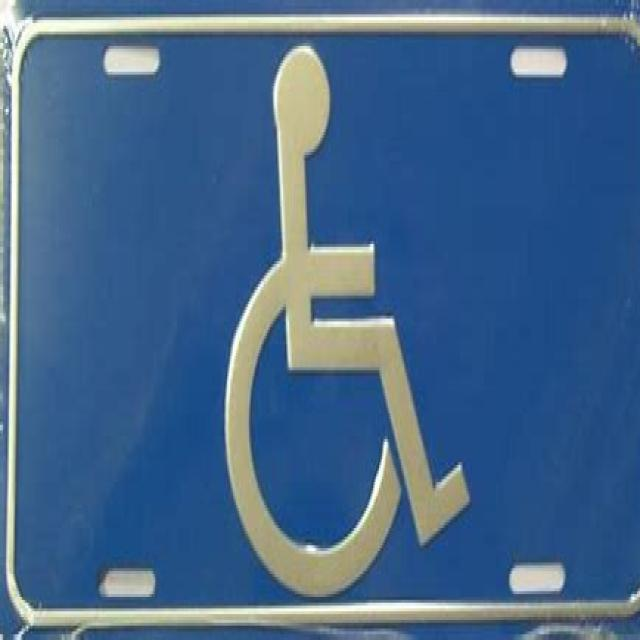car-handicap-placard: (221, 47, 474, 604)
